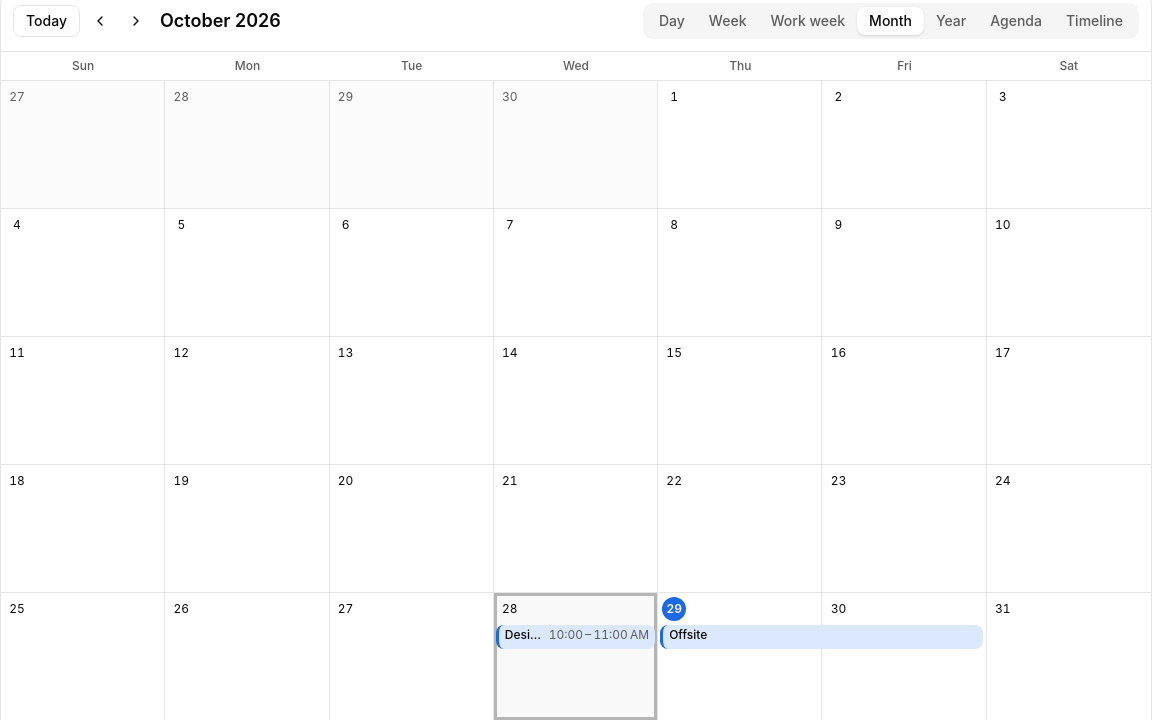
event editor dialog › rejects an end before the start
This screenshot has width=1152, height=720.
(page scrolled)
Press Enter
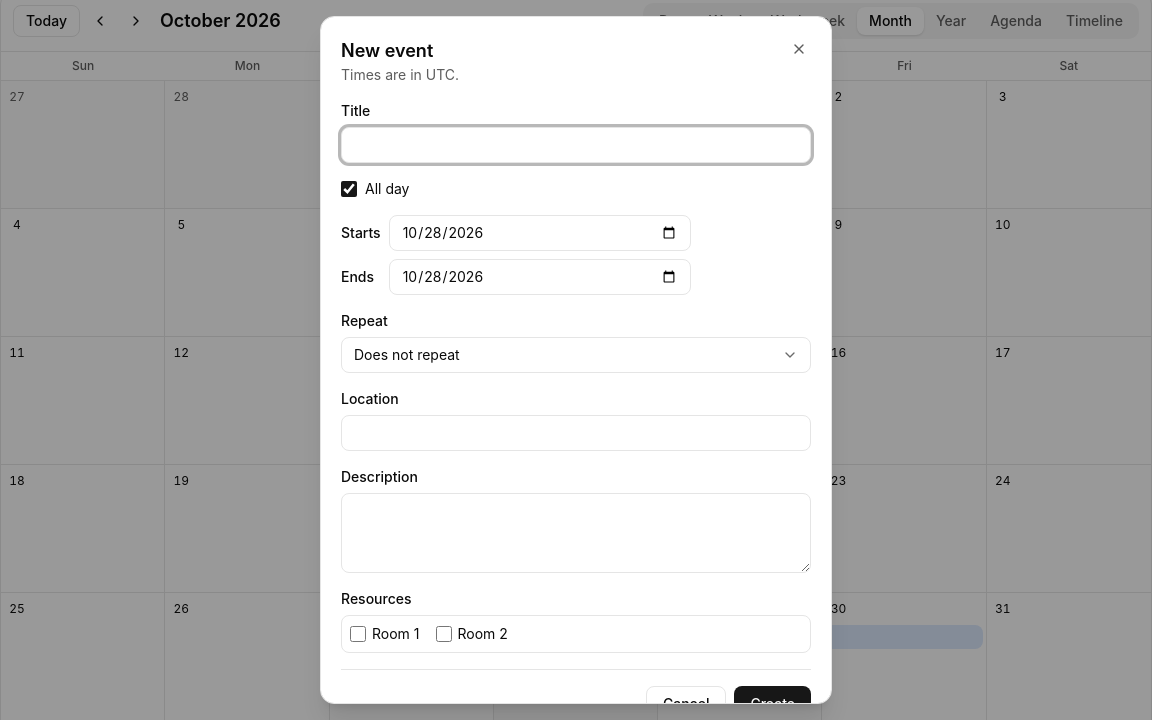
Type "Bad" into the field labelled "Title" at (576, 145), box [341, 127, 811, 163]
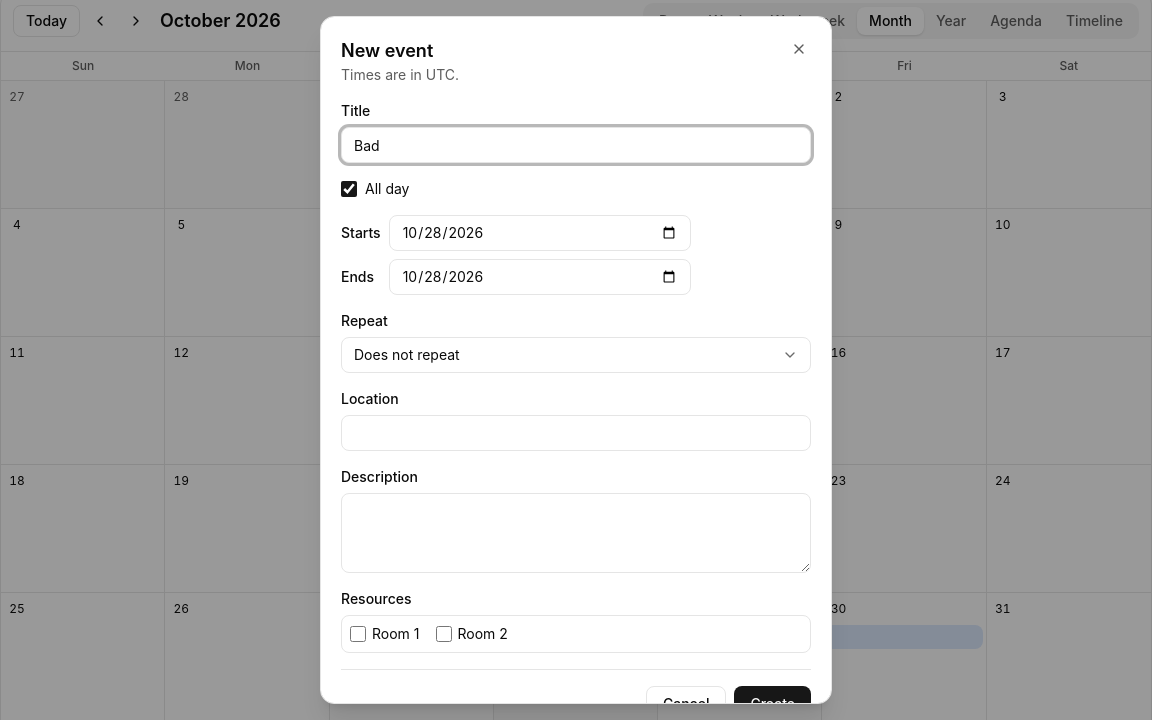
Type "2026-10-01" into the date field labelled "Ends" at (540, 277), box [389, 259, 691, 295]
(page scrolled)
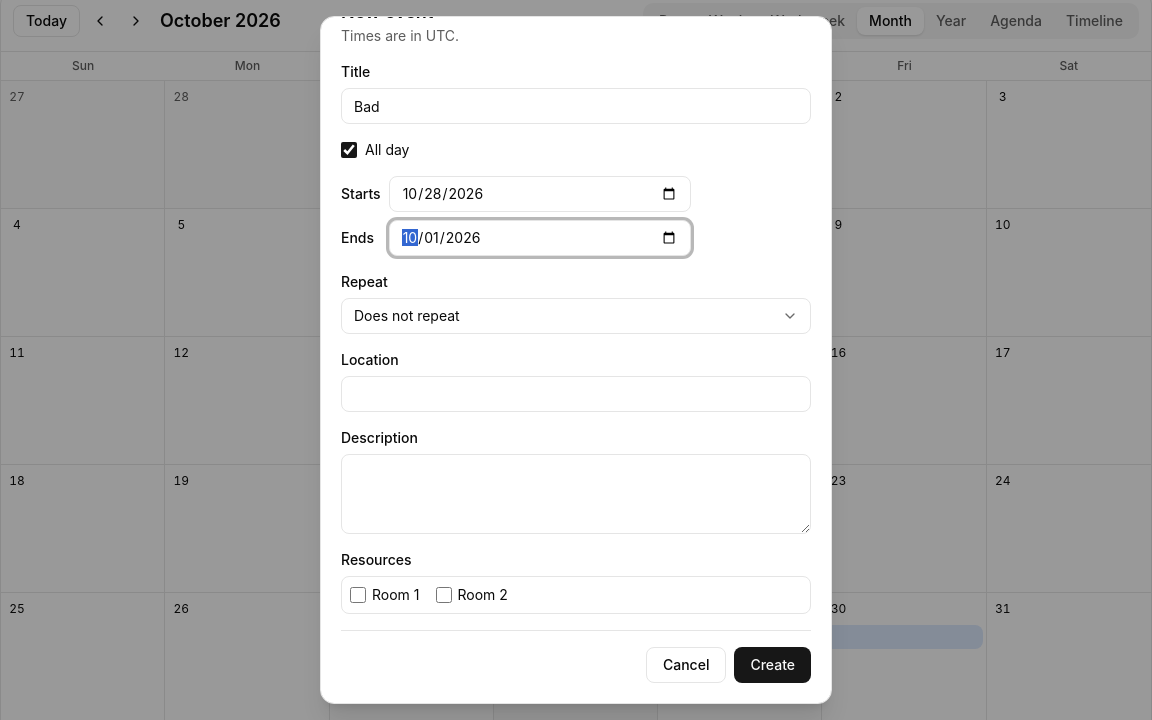
Click the button "Create" at (773, 665), box [734, 647, 811, 683]
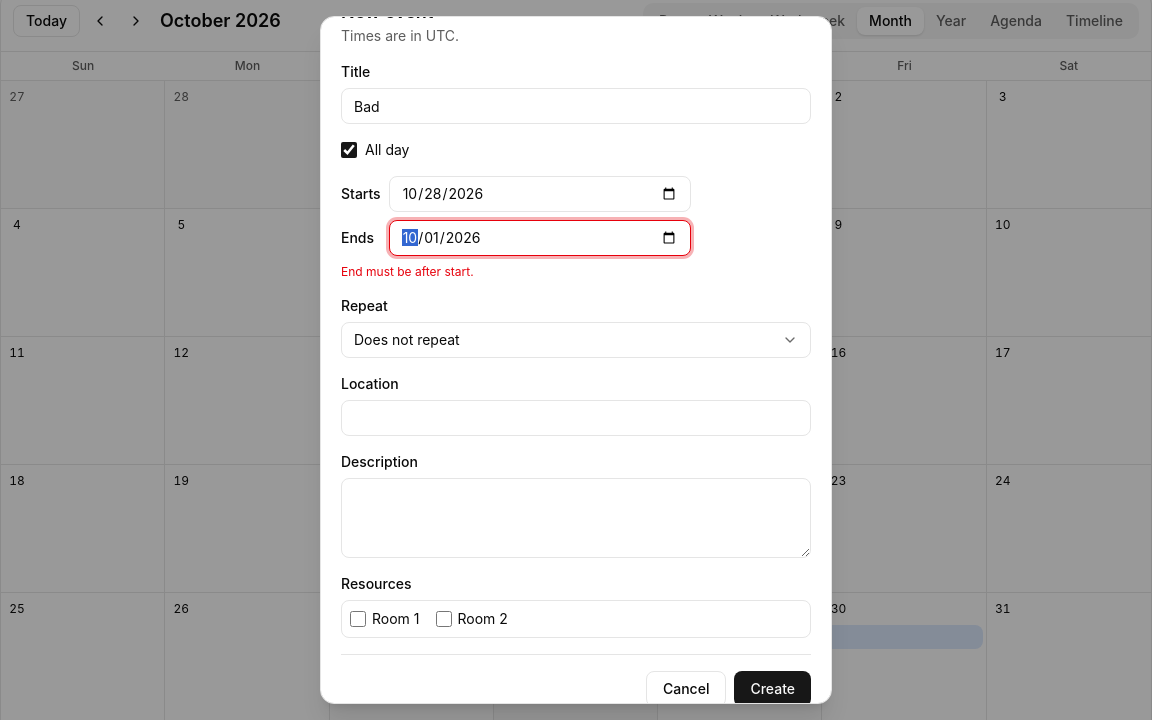
Now the text "End must be after start." is shown, box [341, 264, 474, 279]
